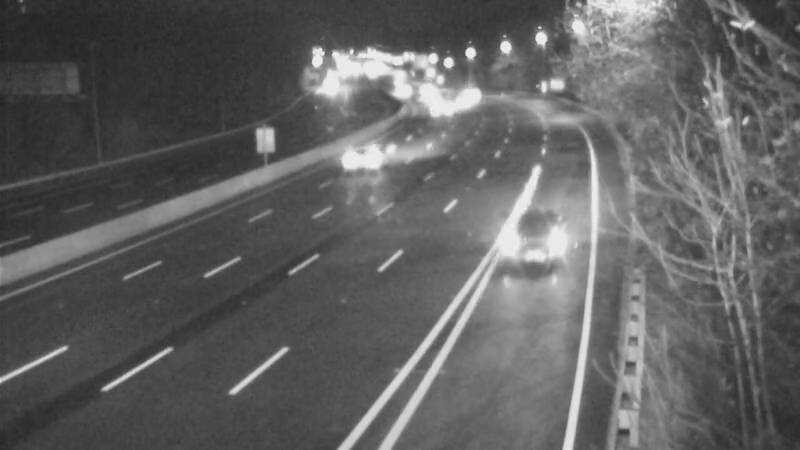vehicle: (330, 116, 410, 196), (502, 199, 582, 279), (379, 67, 429, 117), (447, 68, 497, 118), (412, 83, 462, 133)
